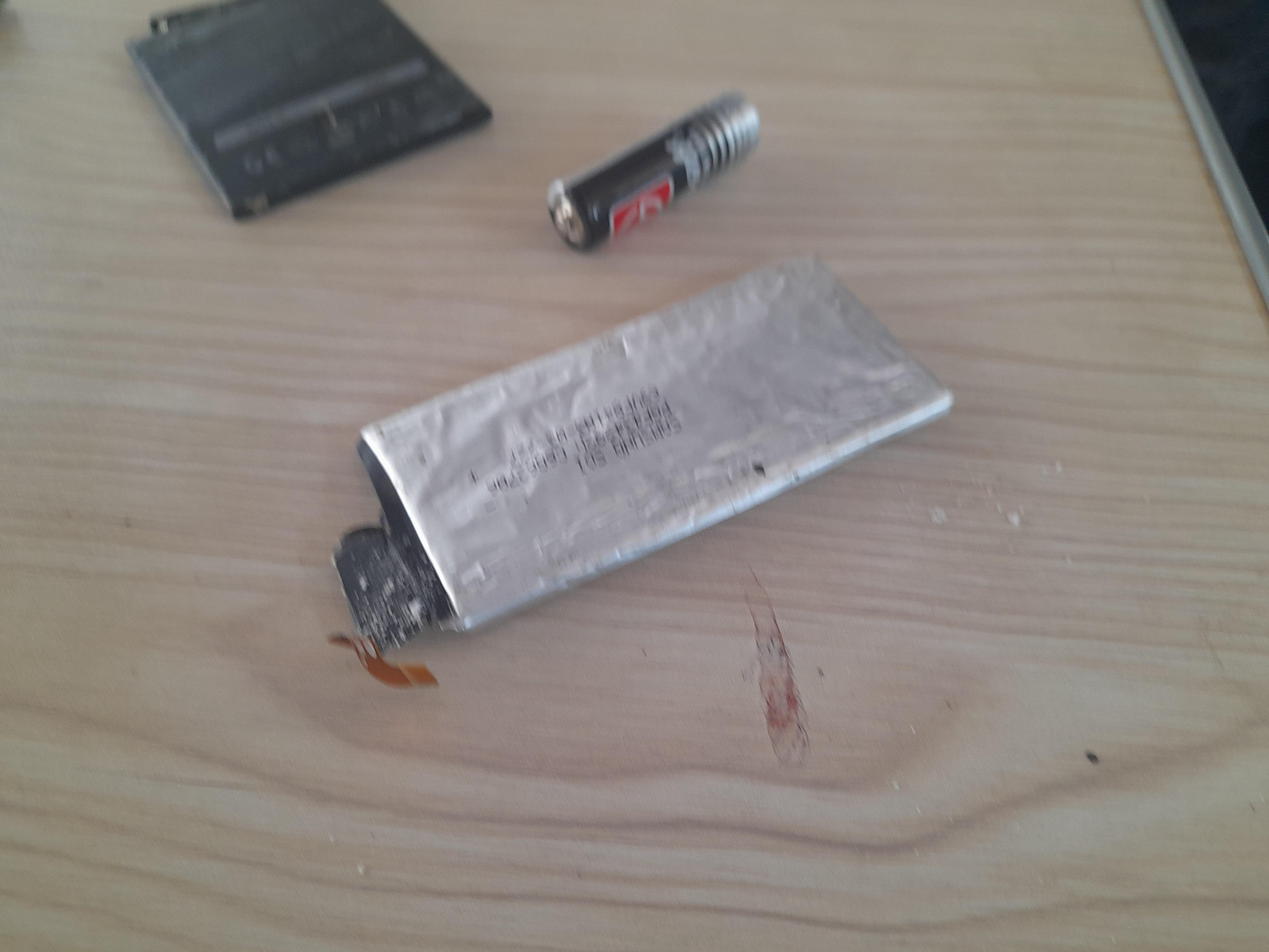AAA: (539, 76, 780, 254)
